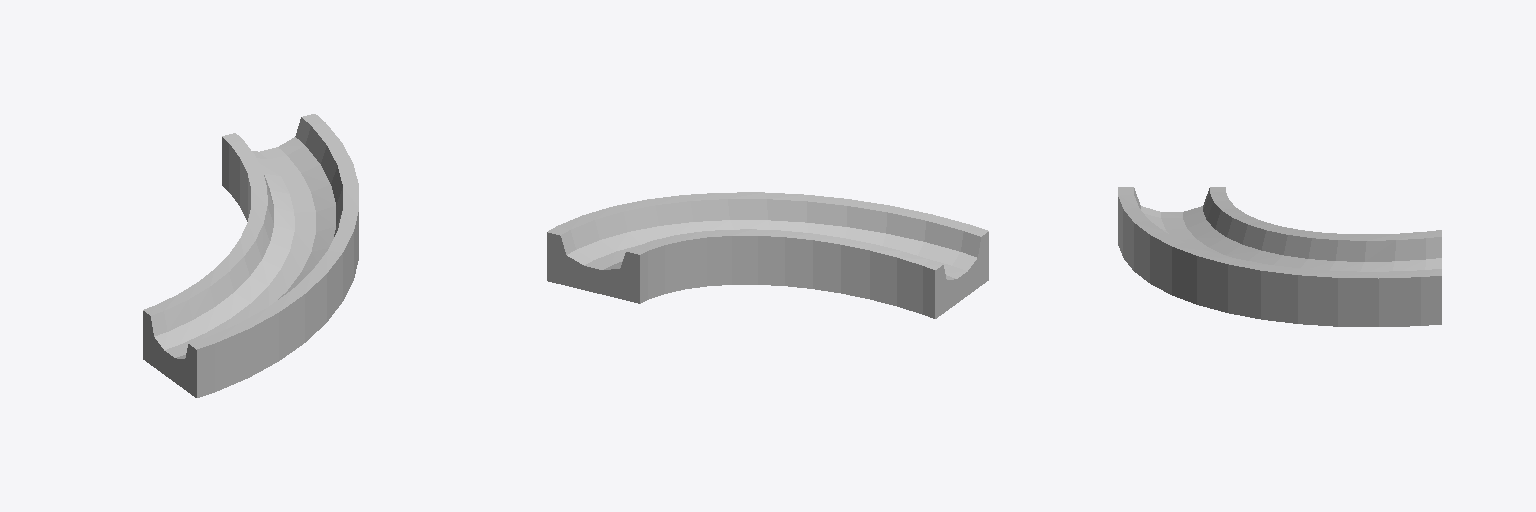
File: helix-large-quarter-left.obj
3 renders of one model, left to right at view 1: azimuth 30°, elevation 25°; view 2: azimuth 150°, elevation 25°; view 3: azimuth 270°, elevation 25°, orthographic.
Visible parts, largest first — view 1: helix-large-quarter-left; view 2: helix-large-quarter-left; view 3: helix-large-quarter-left.
Part boxes in pixels (x1,y1,x2,y2): helix-large-quarter-left: (143,114,358,397); helix-large-quarter-left: (547,192,988,318); helix-large-quarter-left: (1118,187,1441,326).
Bounding box in the file's own units: 3 × 1 × 3.